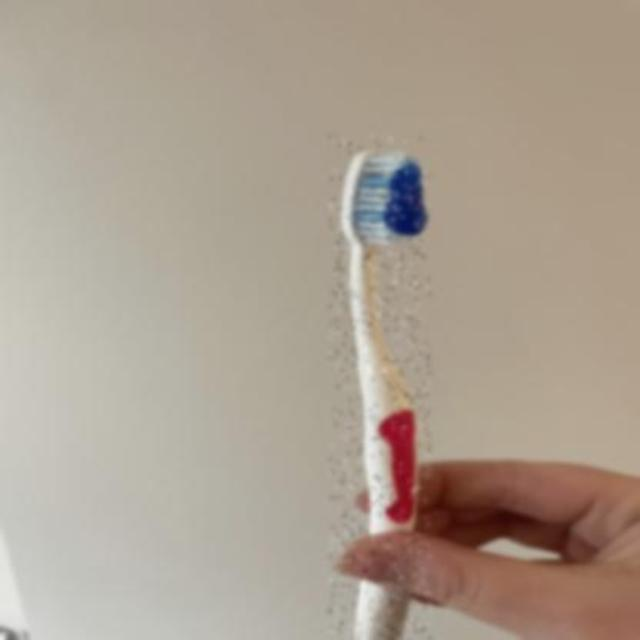toothbrush: (330, 136, 430, 640)
